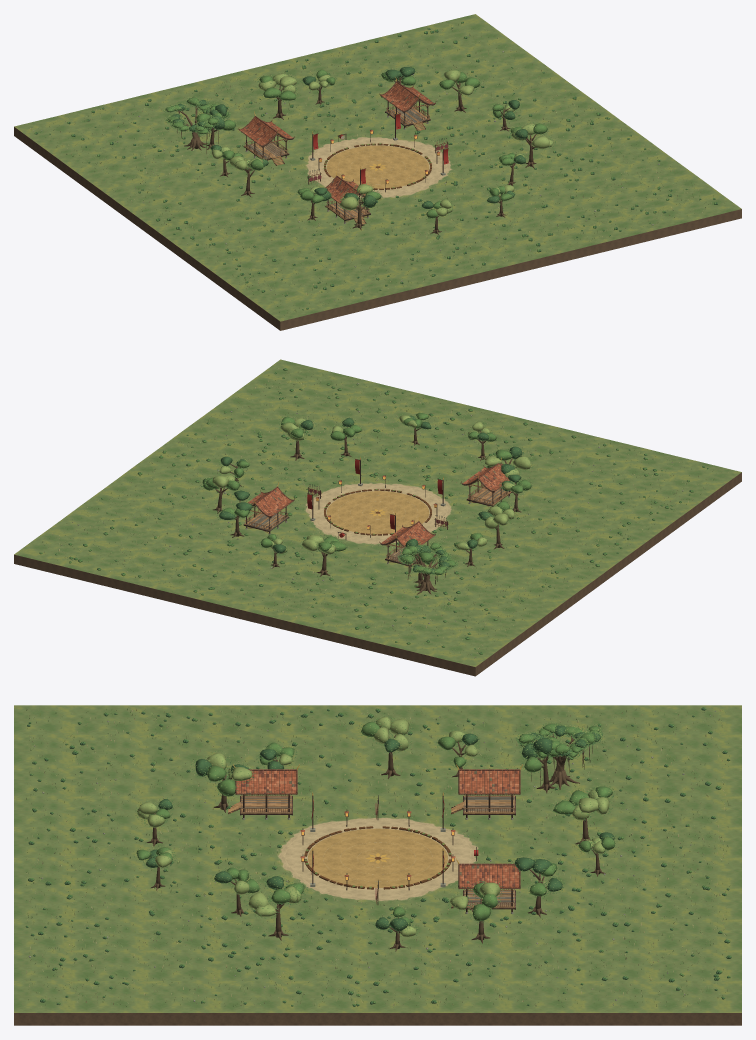
File: duel-arena.glb
The picture shows the model from 3 angles, top to bottom: view 1: azimuth 30°, elevation 25°; view 2: azimuth 150°, elevation 25°; view 3: azimuth 270°, elevation 25°; orthographic projection. The views are drawn at different scales.
Visible parts, largest first — view 1: Ground - varied meadow | grass, Soil foundation | earth, Courtyard - raked sand floor | sand_raked, Organic tree foliage | leaf2, Organic tree foliage | leaf3, Tracks - arena apron | path, Organic understory shrubs | leaf, Organic tree foliage | leaf, Roof / overlapping clay tiles | roof, Organic understory shrubs | leaf4, Fine meadow grass blades | grassblade2, Fine meadow grass blades | grassblade (+9 smaller); view 2: Ground - varied meadow | grass, Soil foundation | earth, Courtyard - raked sand floor | sand_raked, Organic tree foliage | leaf2, Organic tree foliage | leaf3, Tracks - arena apron | path, Organic understory shrubs | leaf2, Organic tree foliage | leaf, Roof / overlapping clay tiles | roof, Organic understory shrubs | leaf, Organic understory shrubs | leaf4, Fine meadow grass blades | grassblade2 (+8 smaller); view 3: Ground - varied meadow | grass, Soil foundation | earth, Courtyard - raked sand floor | sand_raked, Organic tree foliage | leaf2, Organic tree foliage | leaf3, Tracks - arena apron | path, Organic understory shrubs | leaf, Roof / overlapping clay tiles | roof, Organic tree foliage | leaf, Fine meadow grass blades | grassblade2, Fine meadow grass blades | grassdry, Fine meadow grass blades | grassblade (+17 smaller).
Boxes of the visible parts, box(x1,y1,x2,y2) form: Ground - varied meadow | grass: box(14, 14, 741, 321); Soil foundation | earth: box(14, 127, 741, 330); Courtyard - raked sand floor | sand_raked: box(326, 145, 429, 188); Organic tree foliage | leaf2: box(196, 69, 547, 218); Organic tree foliage | leaf3: box(211, 70, 553, 216); Tracks - arena apron | path: box(312, 139, 446, 195); Organic understory shrubs | leaf: box(36, 21, 717, 310); Organic tree foliage | leaf: box(210, 67, 527, 208); Roof / overlapping clay tiles | roof: box(240, 83, 434, 202); Organic understory shrubs | leaf4: box(34, 22, 715, 309); Fine meadow grass blades | grassblade2: box(30, 29, 706, 311); Fine meadow grass blades | grassblade: box(48, 24, 713, 315); Ground - varied meadow | grass: box(14, 359, 741, 666); Soil foundation | earth: box(14, 472, 741, 676); Courtyard - raked sand floor | sand_raked: box(326, 491, 429, 534); Organic tree foliage | leaf2: box(202, 413, 531, 564); Organic tree foliage | leaf3: box(212, 415, 530, 554); Tracks - arena apron | path: box(311, 485, 446, 542); Organic understory shrubs | leaf2: box(39, 369, 707, 654); Organic tree foliage | leaf: box(219, 415, 522, 553); Roof / overlapping clay tiles | roof: box(249, 464, 509, 546); Organic understory shrubs | leaf: box(39, 368, 707, 653); Organic understory shrubs | leaf4: box(41, 368, 708, 654); Fine meadow grass blades | grassblade2: box(44, 371, 713, 659); Ground - varied meadow | grass: box(14, 705, 741, 1012); Soil foundation | earth: box(14, 1013, 741, 1025); Courtyard - raked sand floor | sand_raked: box(308, 828, 447, 887); Organic tree foliage | leaf2: box(136, 721, 615, 925); Organic tree foliage | leaf3: box(137, 717, 609, 936); Tracks - arena apron | path: box(285, 820, 470, 898); Organic understory shrubs | leaf: box(26, 707, 730, 1006); Roof / overlapping clay tiles | roof: box(236, 770, 519, 887); Organic tree foliage | leaf: box(146, 733, 614, 931); Fine meadow grass blades | grassblade2: box(26, 707, 730, 1006); Fine meadow grass blades | grassdry: box(26, 709, 728, 1006); Fine meadow grass blades | grassblade: box(26, 708, 729, 1006).
Size of the model in its own units: 120 by 12.73 by 120.
34 materials, 34 textured.
